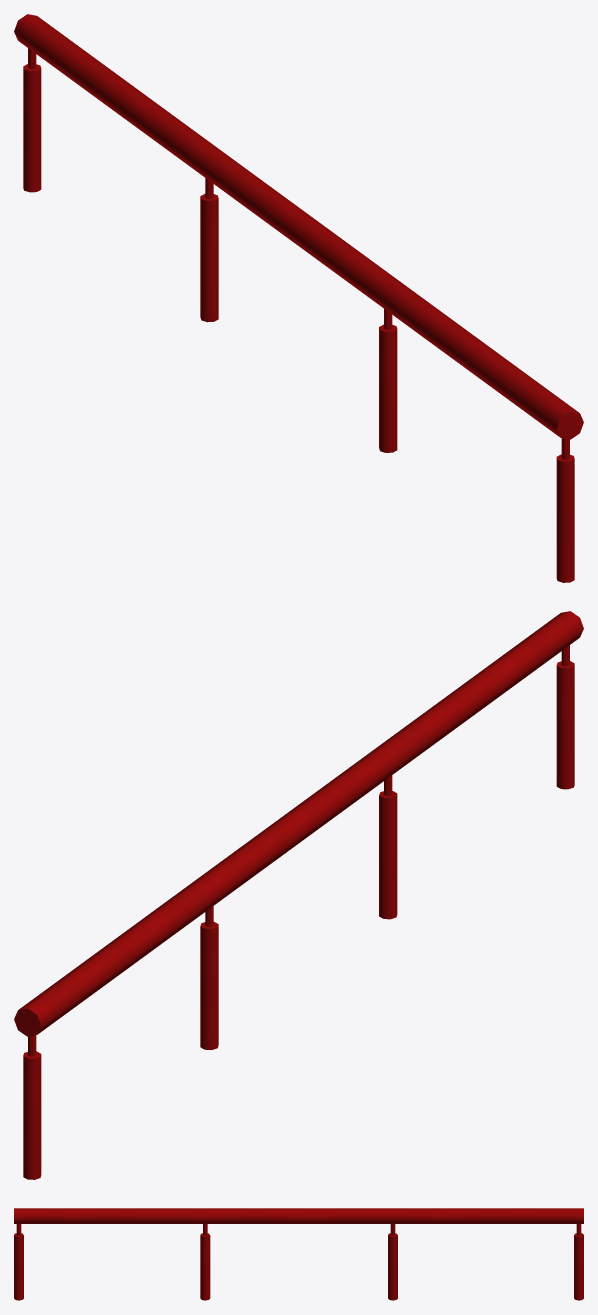
File: Guard_01_01.FBX
The picture shows the model from 3 angles, top to bottom: view 1: azimuth 30°, elevation 25°; view 2: azimuth 150°, elevation 25°; view 3: azimuth 270°, elevation 25°; orthographic projection. The views are drawn at different scales.
Parts seen in each view (by area): view 1: Guard_01_01; view 2: Guard_01_01; view 3: Guard_01_01.
Boxes of the visible parts, x1=… form: Guard_01_01: x1=14, y1=14, x2=583, y2=582; Guard_01_01: x1=14, y1=611, x2=583, y2=1179; Guard_01_01: x1=14, y1=1208, x2=583, y2=1300.
Bounding box in the file's own units: 0.1 × 0.6017 × 3.46.
